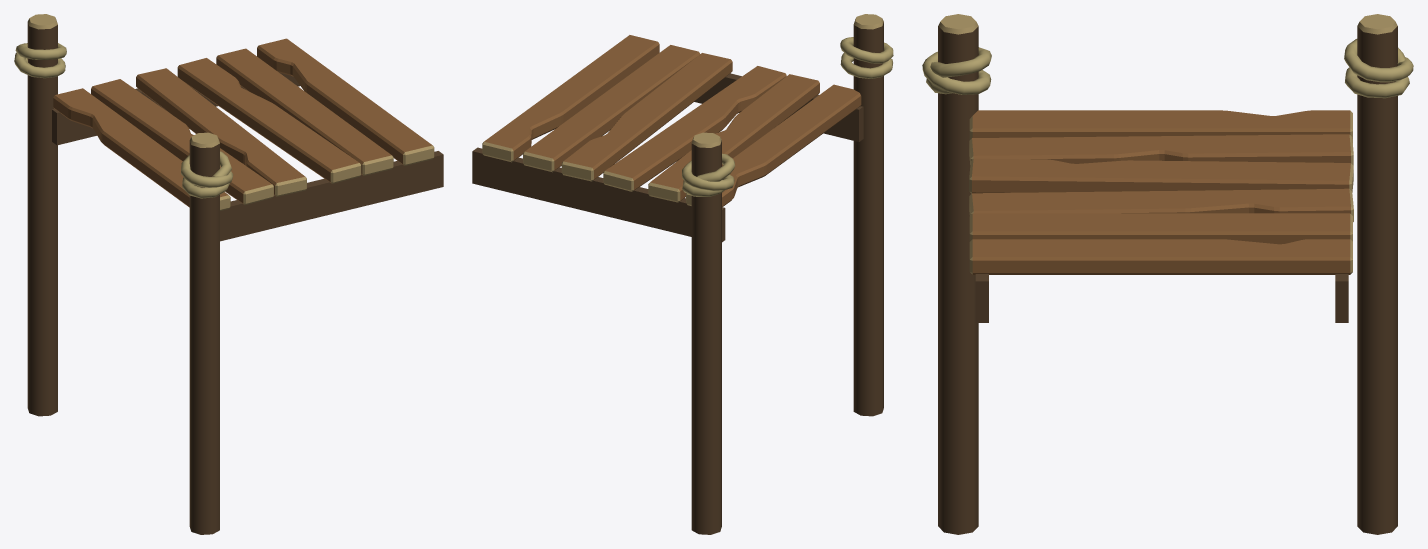
File: dock.glb
The picture shows the model from 3 angles, left to right: view 1: azimuth 30°, elevation 25°; view 2: azimuth 150°, elevation 25°; view 3: azimuth 270°, elevation 25°; orthographic projection. The views are drawn at different scales.
Visible parts, largest first — view 1: Environment_Dock; view 2: Environment_Dock; view 3: Environment_Dock.
Boxes of the visible parts, left/top/right/bottom form: Environment_Dock: left=14, top=14, right=443, bottom=534; Environment_Dock: left=472, top=14, right=893, bottom=534; Environment_Dock: left=922, top=14, right=1413, bottom=534.
Size of the model in its own units: 2.18 by 3.01 by 2.66.
Materials: 1 (1 with a texture image).
